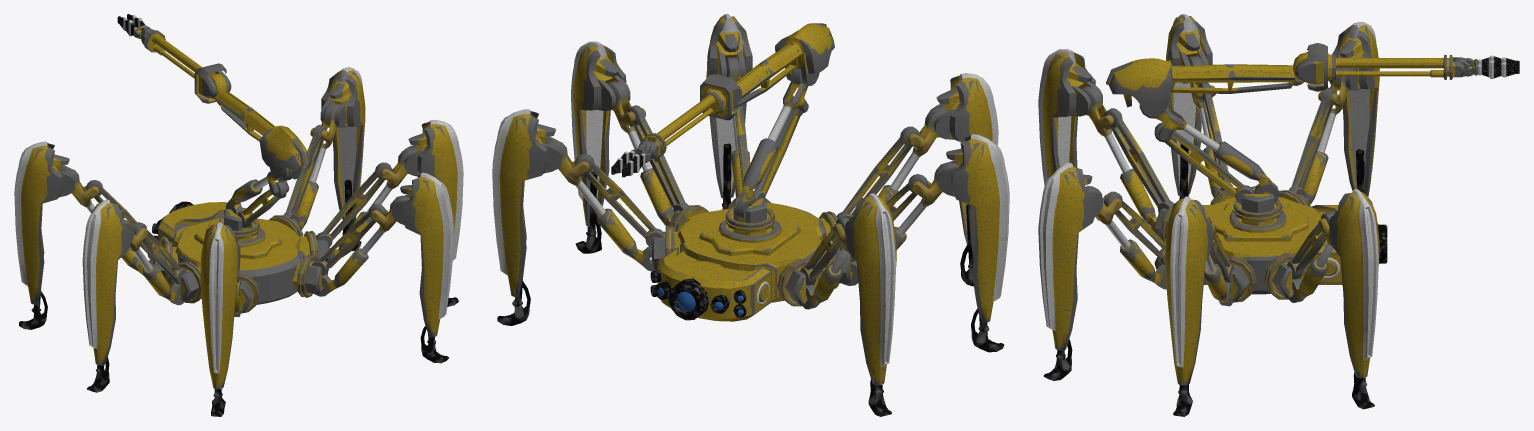
File: spider-transformed.glb
The picture shows the model from 3 angles, left to right: view 1: azimuth 30°, elevation 25°; view 2: azimuth 150°, elevation 25°; view 3: azimuth 270°, elevation 25°; orthographic projection. The views are drawn at different scales.
Visible parts, largest first — view 1: legg_.002, legg_.000, legg_.001, legg_.003, body, Head; view 2: legg_.001, legg_.000, legg_.002, legg_.003, body, Head, legg_.004; view 3: legg_.002, legg_.001, legg_.003, legg_.000, body, Head, legg_.004.
Part boxes in pixels (x1,y1,x2,y2): legg_.002: (200, 172, 453, 416); legg_.000: (82, 119, 463, 392); legg_.001: (14, 67, 365, 329); legg_.003: (134, 25, 311, 241); body: (174, 213, 304, 304); Head: (151, 201, 227, 246); legg_.001: (492, 109, 896, 416); legg_.000: (571, 41, 1009, 352); legg_.002: (706, 14, 998, 286); legg_.003: (631, 23, 834, 235); body: (677, 202, 826, 302); Head: (650, 247, 771, 321); legg_.004: (611, 151, 645, 177); legg_.002: (1038, 49, 1174, 380); legg_.001: (1264, 22, 1379, 409); legg_.003: (1106, 43, 1477, 225); legg_.000: (1164, 14, 1256, 416); body: (1202, 197, 1335, 294); Head: (1310, 205, 1387, 285); legg_.004: (1477, 55, 1519, 78).
Size of the model in its own units: 3.62 by 2.16 by 3.51.
1 material, 1 textured.
